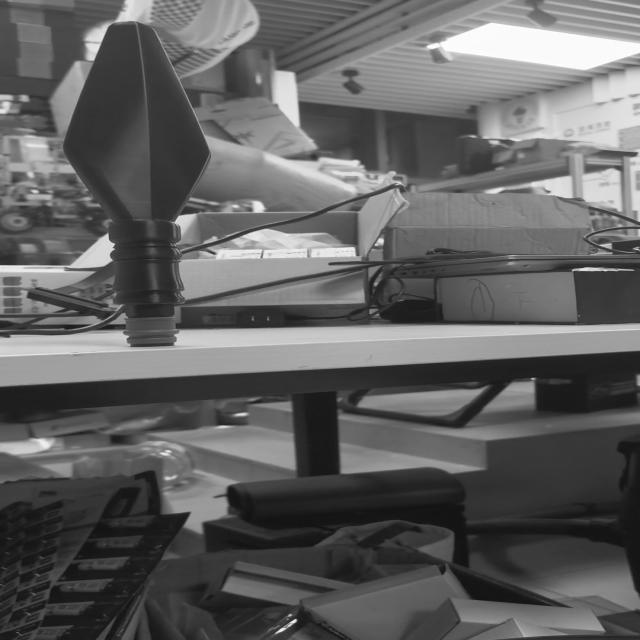base: (117, 314, 192, 348)
